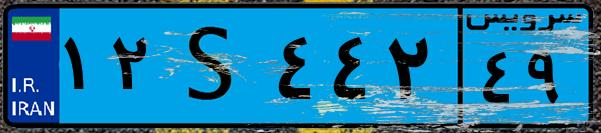1: (57, 26, 110, 100)
2: (385, 28, 445, 110), (110, 28, 158, 98)
4: (270, 28, 330, 110), (330, 28, 385, 110), (475, 38, 525, 113)
9: (525, 38, 570, 115)
S: (158, 12, 270, 120)
